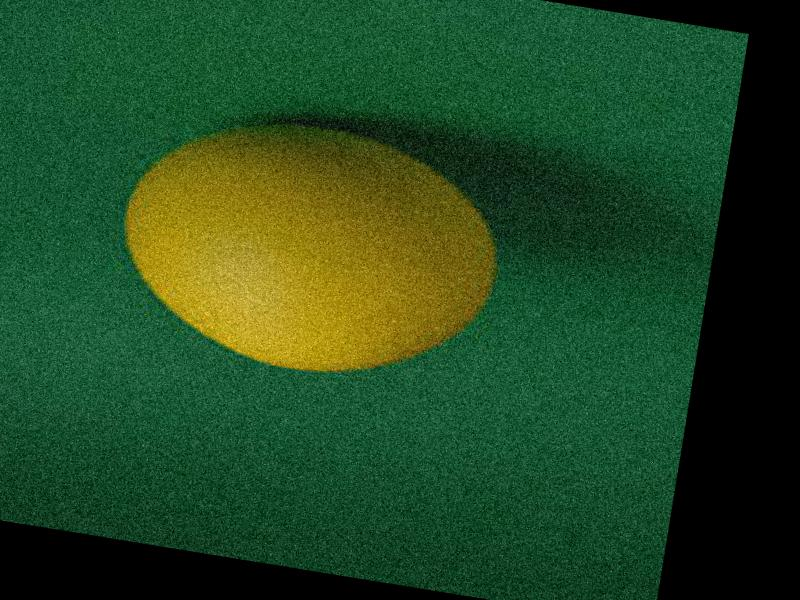Eggs: (100, 96, 502, 398)
